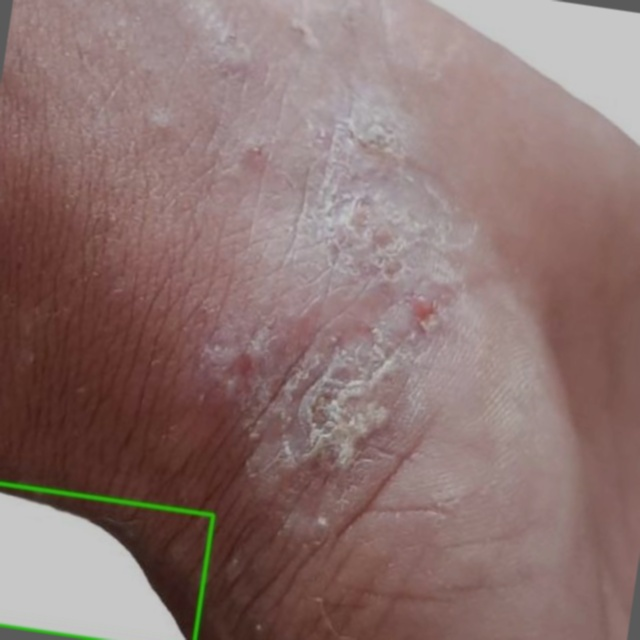Scabies: (0, 483, 213, 639)
